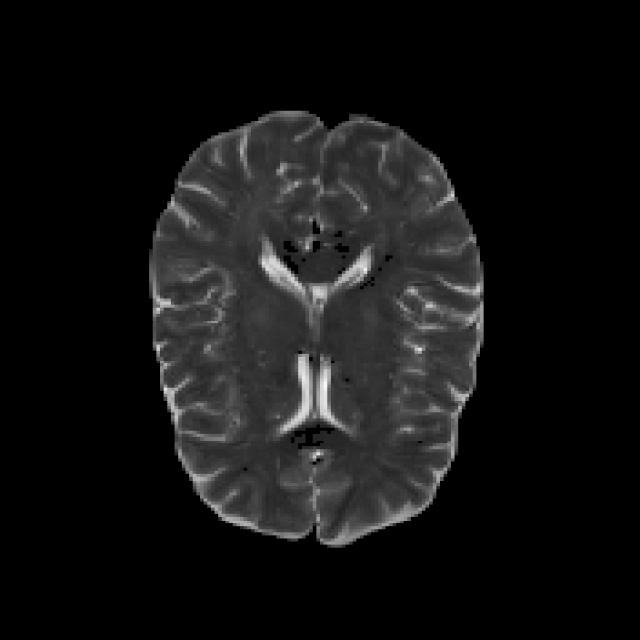CONTROL: (146, 108, 483, 544)
